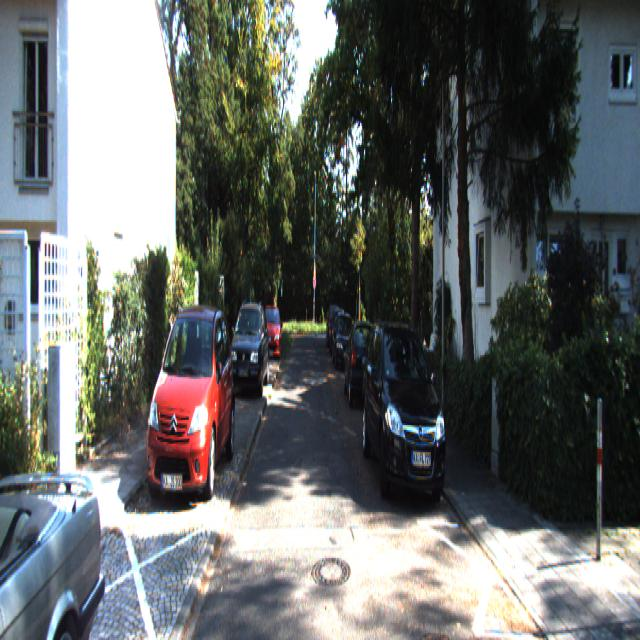Car: (0, 369, 119, 638), (146, 304, 235, 508), (361, 316, 452, 515), (228, 300, 269, 401), (344, 318, 384, 411), (260, 305, 283, 364), (334, 310, 356, 371)
